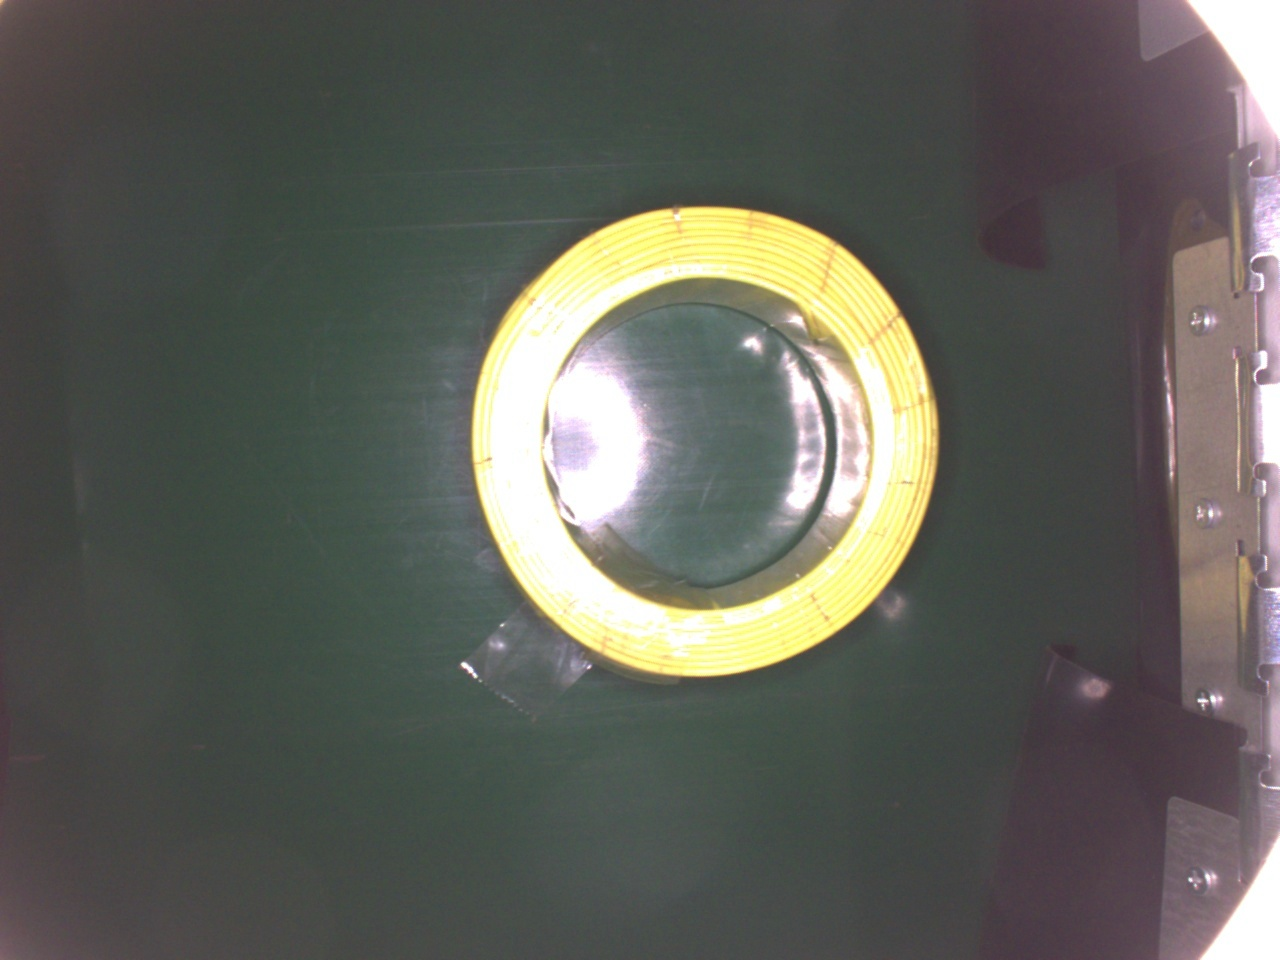yellow: (466, 205, 945, 685)
